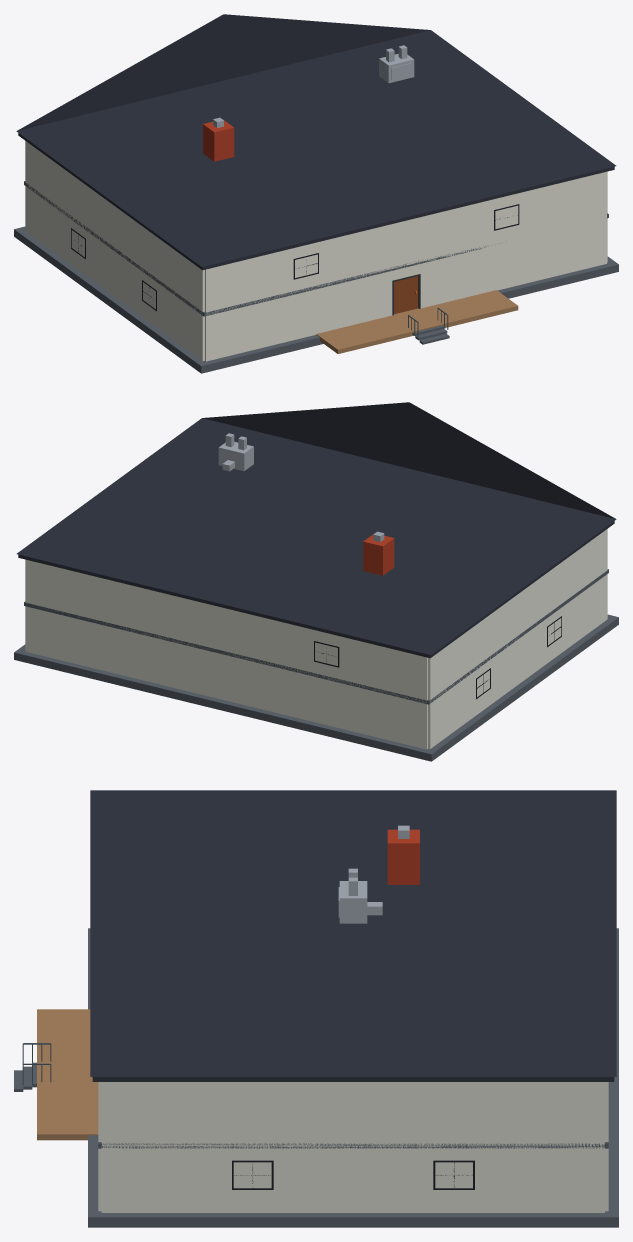
Rendered from bp_proj4_4c013e0b5eef.obj.
3 renders of one model, top to bottom at view 1: azimuth 30°, elevation 25°; view 2: azimuth 150°, elevation 25°; view 3: azimuth 270°, elevation 25°, orthographic. The views are drawn at different scales.
Visible parts, largest first — view 1: Roof_Gable_Pitch, Ext_Wall_South_2F, Ext_Wall_South_R, Ext_Wall_South_L, Ext_Wall_West, Ext_Wall_West_2F, Foundation_Slab, Porch_Deck, Roof_Cap_Base, Second_Floor_Slab, Masonry_Chimney, Main_Front_Door_Panel (+1 smaller); view 2: Roof_Gable_Pitch, Ext_Wall_North, Ext_Wall_North_2F, Ext_Wall_West, Ext_Wall_West_2F, Foundation_Slab, Second_Floor_Slab, Roof_Cap_Base, Masonry_Chimney, Roof_Ridge_Vent_HVAC_Unit; view 3: Roof_Gable_Pitch, Ext_Wall_East, Ext_Wall_East_2F, Foundation_Slab, Porch_Deck, Roof_Cap_Base, Second_Floor_Slab, Masonry_Chimney, Roof_Ridge_Vent_HVAC_Unit.
Part boxes in pixels (<box>): Roof_Gable_Pitch: <box>16,14,616,266</box>; Ext_Wall_South_2F: <box>205,171,606,313</box>; Ext_Wall_South_R: <box>420,216,606,308</box>; Ext_Wall_South_L: <box>205,269,392,361</box>; Ext_Wall_West: <box>25,184,204,360</box>; Ext_Wall_West_2F: <box>25,141,204,313</box>; Foundation_Slab: <box>14,226,618,373</box>; Porch_Deck: <box>316,290,518,353</box>; Roof_Cap_Base: <box>18,133,614,270</box>; Second_Floor_Slab: <box>24,181,608,316</box>; Masonry_Chimney: <box>203,120,234,161</box>; Main_Front_Door_Panel: <box>394,276,418,314</box>; Roof_Gable_Pitch: <box>16,402,616,654</box>; Ext_Wall_North: <box>26,606,427,749</box>; Ext_Wall_North_2F: <box>26,559,427,701</box>; Ext_Wall_West: <box>428,574,607,748</box>; Ext_Wall_West_2F: <box>428,529,607,700</box>; Foundation_Slab: <box>14,614,618,761</box>; Second_Floor_Slab: <box>24,569,608,704</box>; Roof_Cap_Base: <box>18,521,614,658</box>; Masonry_Chimney: <box>363,533,394,575</box>; Roof_Ridge_Vent_HVAC_Unit: <box>218,441,253,471</box>; Roof_Gable_Pitch: <box>90,790,616,1076</box>; Ext_Wall_East: <box>101,1146,604,1212</box>; Ext_Wall_East_2F: <box>101,1082,604,1145</box>; Foundation_Slab: <box>88,928,618,1227</box>; Porch_Deck: <box>37,1009,98,1140</box>; Roof_Cap_Base: <box>92,1077,614,1081</box>; Second_Floor_Slab: <box>98,1142,608,1148</box>; Masonry_Chimney: <box>387,829,419,884</box>; Roof_Ridge_Vent_HVAC_Unit: <box>339,881,367,923</box>.
Size of the model in its own units: 29.6 by 13.06 by 26.2.
